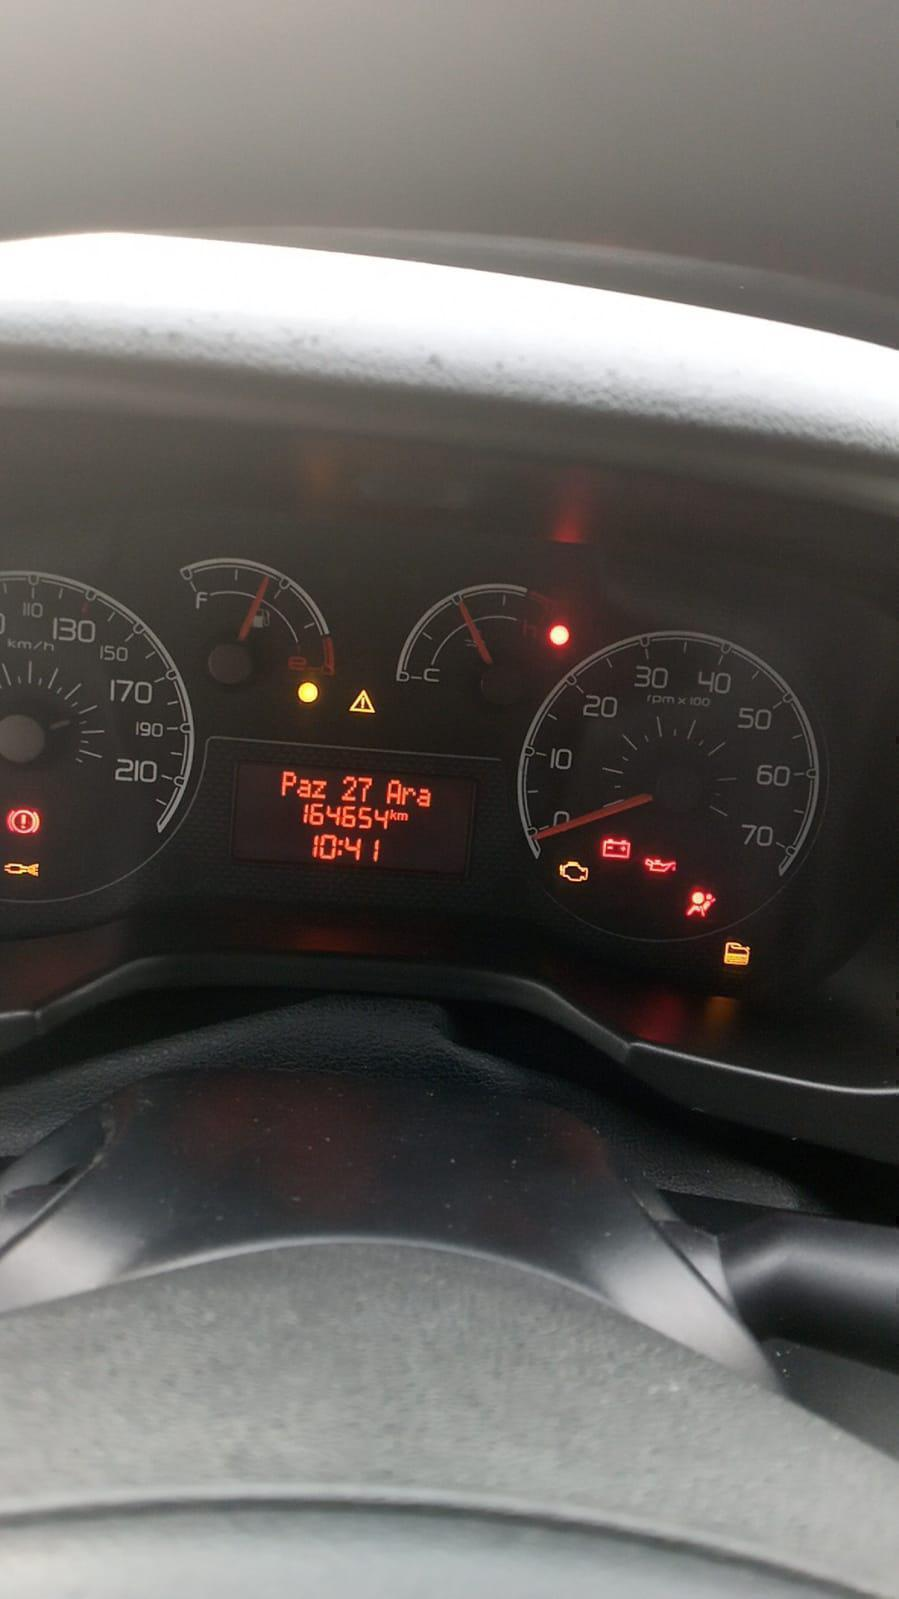0: (319, 832, 336, 861)
1: (371, 837, 381, 864), (311, 834, 319, 860), (302, 801, 310, 825)
2: (340, 773, 357, 802)
4: (344, 835, 364, 861), (325, 804, 341, 826), (374, 807, 389, 831)
5: (358, 804, 372, 830)
6: (310, 802, 324, 826), (342, 804, 356, 828)
7: (357, 775, 373, 802)
X: (279, 769, 296, 796), (385, 779, 401, 804), (312, 778, 327, 800), (417, 787, 431, 808), (297, 776, 311, 798), (401, 786, 416, 805), (397, 810, 409, 821), (336, 838, 342, 856), (389, 808, 397, 820)
odometer: (233, 759, 472, 873)
